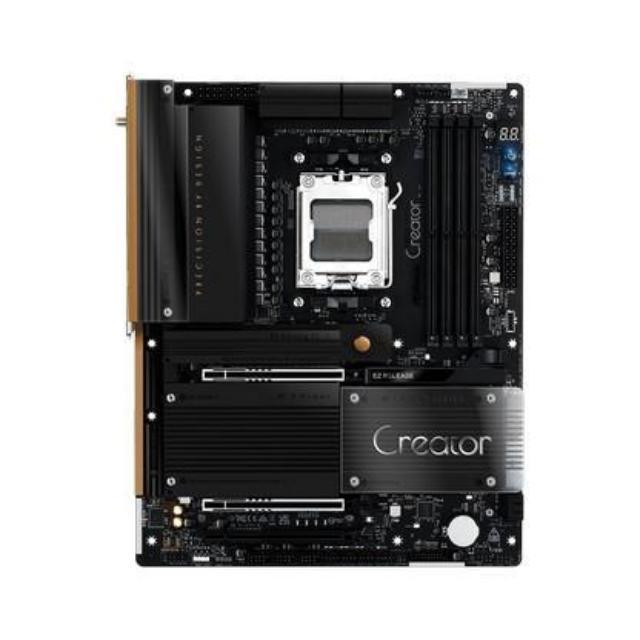Mainboard: (124, 69, 528, 571)
